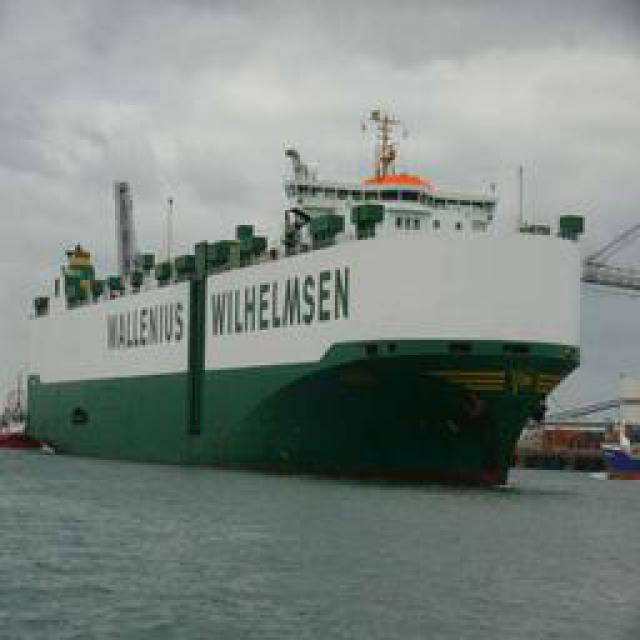Ship: (23, 123, 591, 473)
